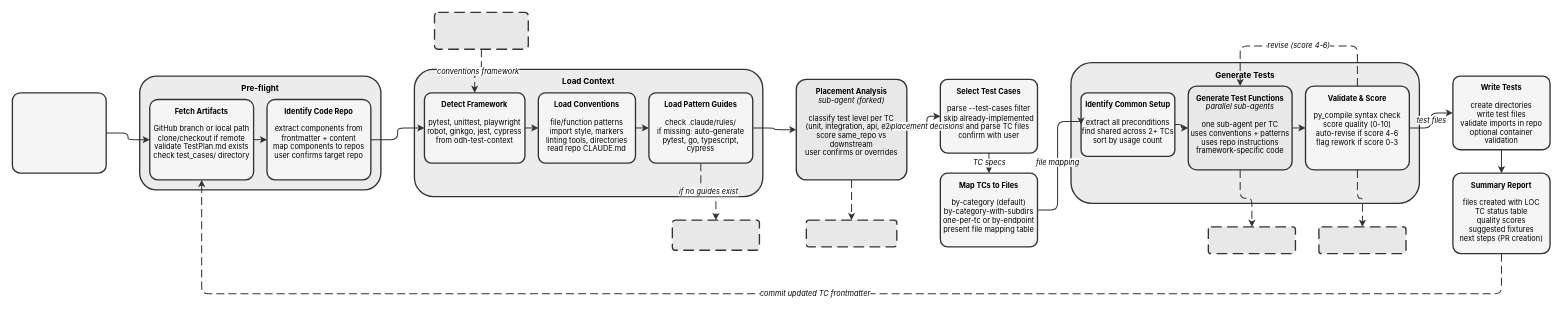
Image size: 1562x311. Some labels were removed from this diagram. Each missing label, with the centre of its shape:
"/test-plan.case-implement FEATURE_SOURCE --test-cases TC-IDs --target-repo PATH" belongs at [59,133].
"/test-rules-generator Tiger Team pattern guides" belongs at [715,235].
"odh-test-context validated test conventions for ~162 repos" belongs at [481,30].
"test-plan.analyze.placement" belongs at [851,233].
"test-plan.create.test-function" belongs at [1251,240].
"test-plan.score.test-function" belongs at [1362,240].
